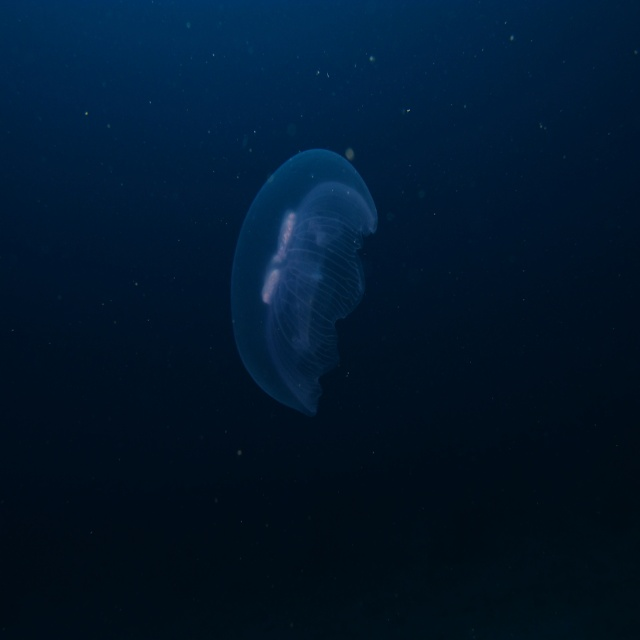Jellyfish: (230, 148, 378, 418)
